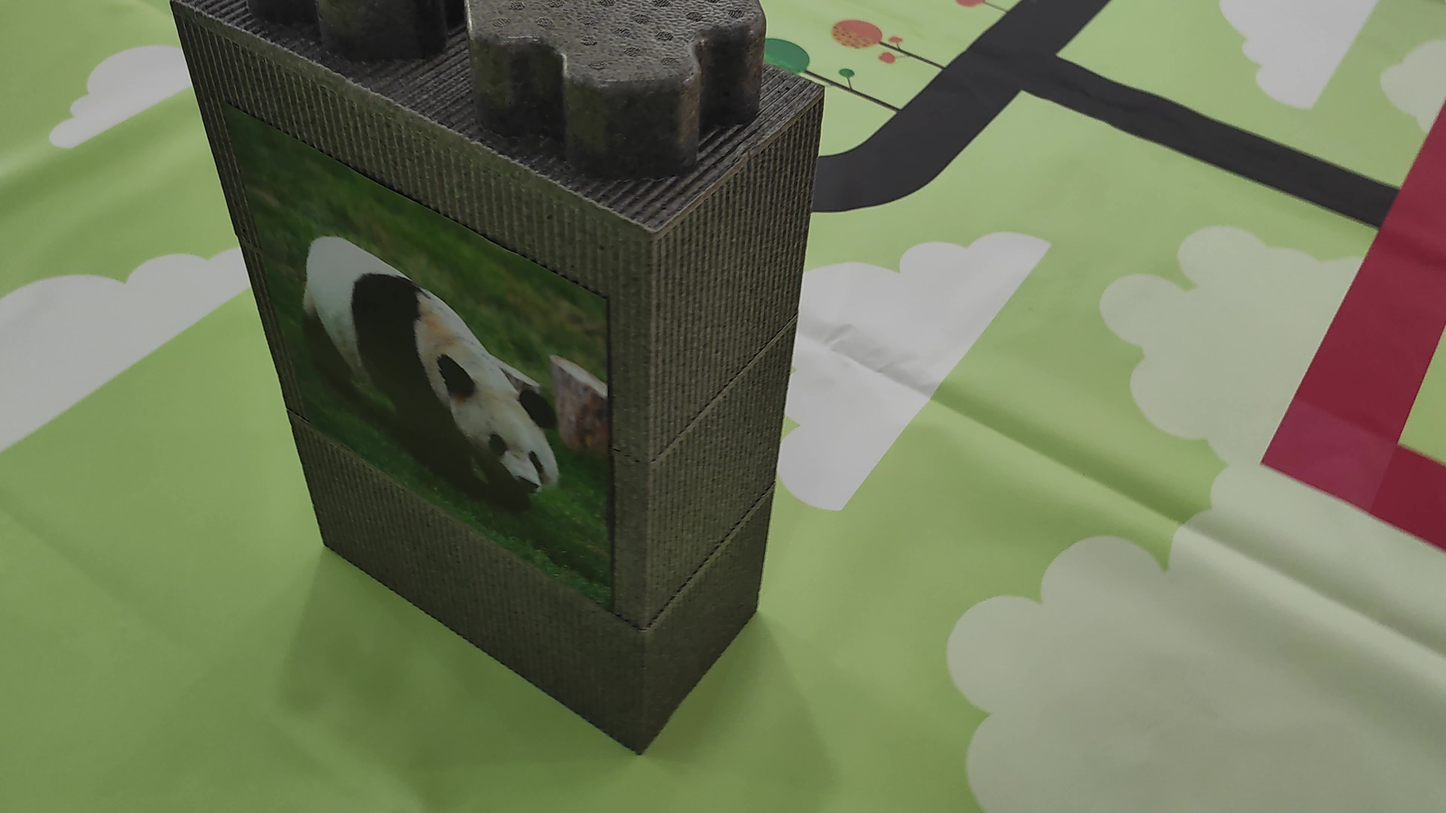panda: (285, 215, 580, 521)
